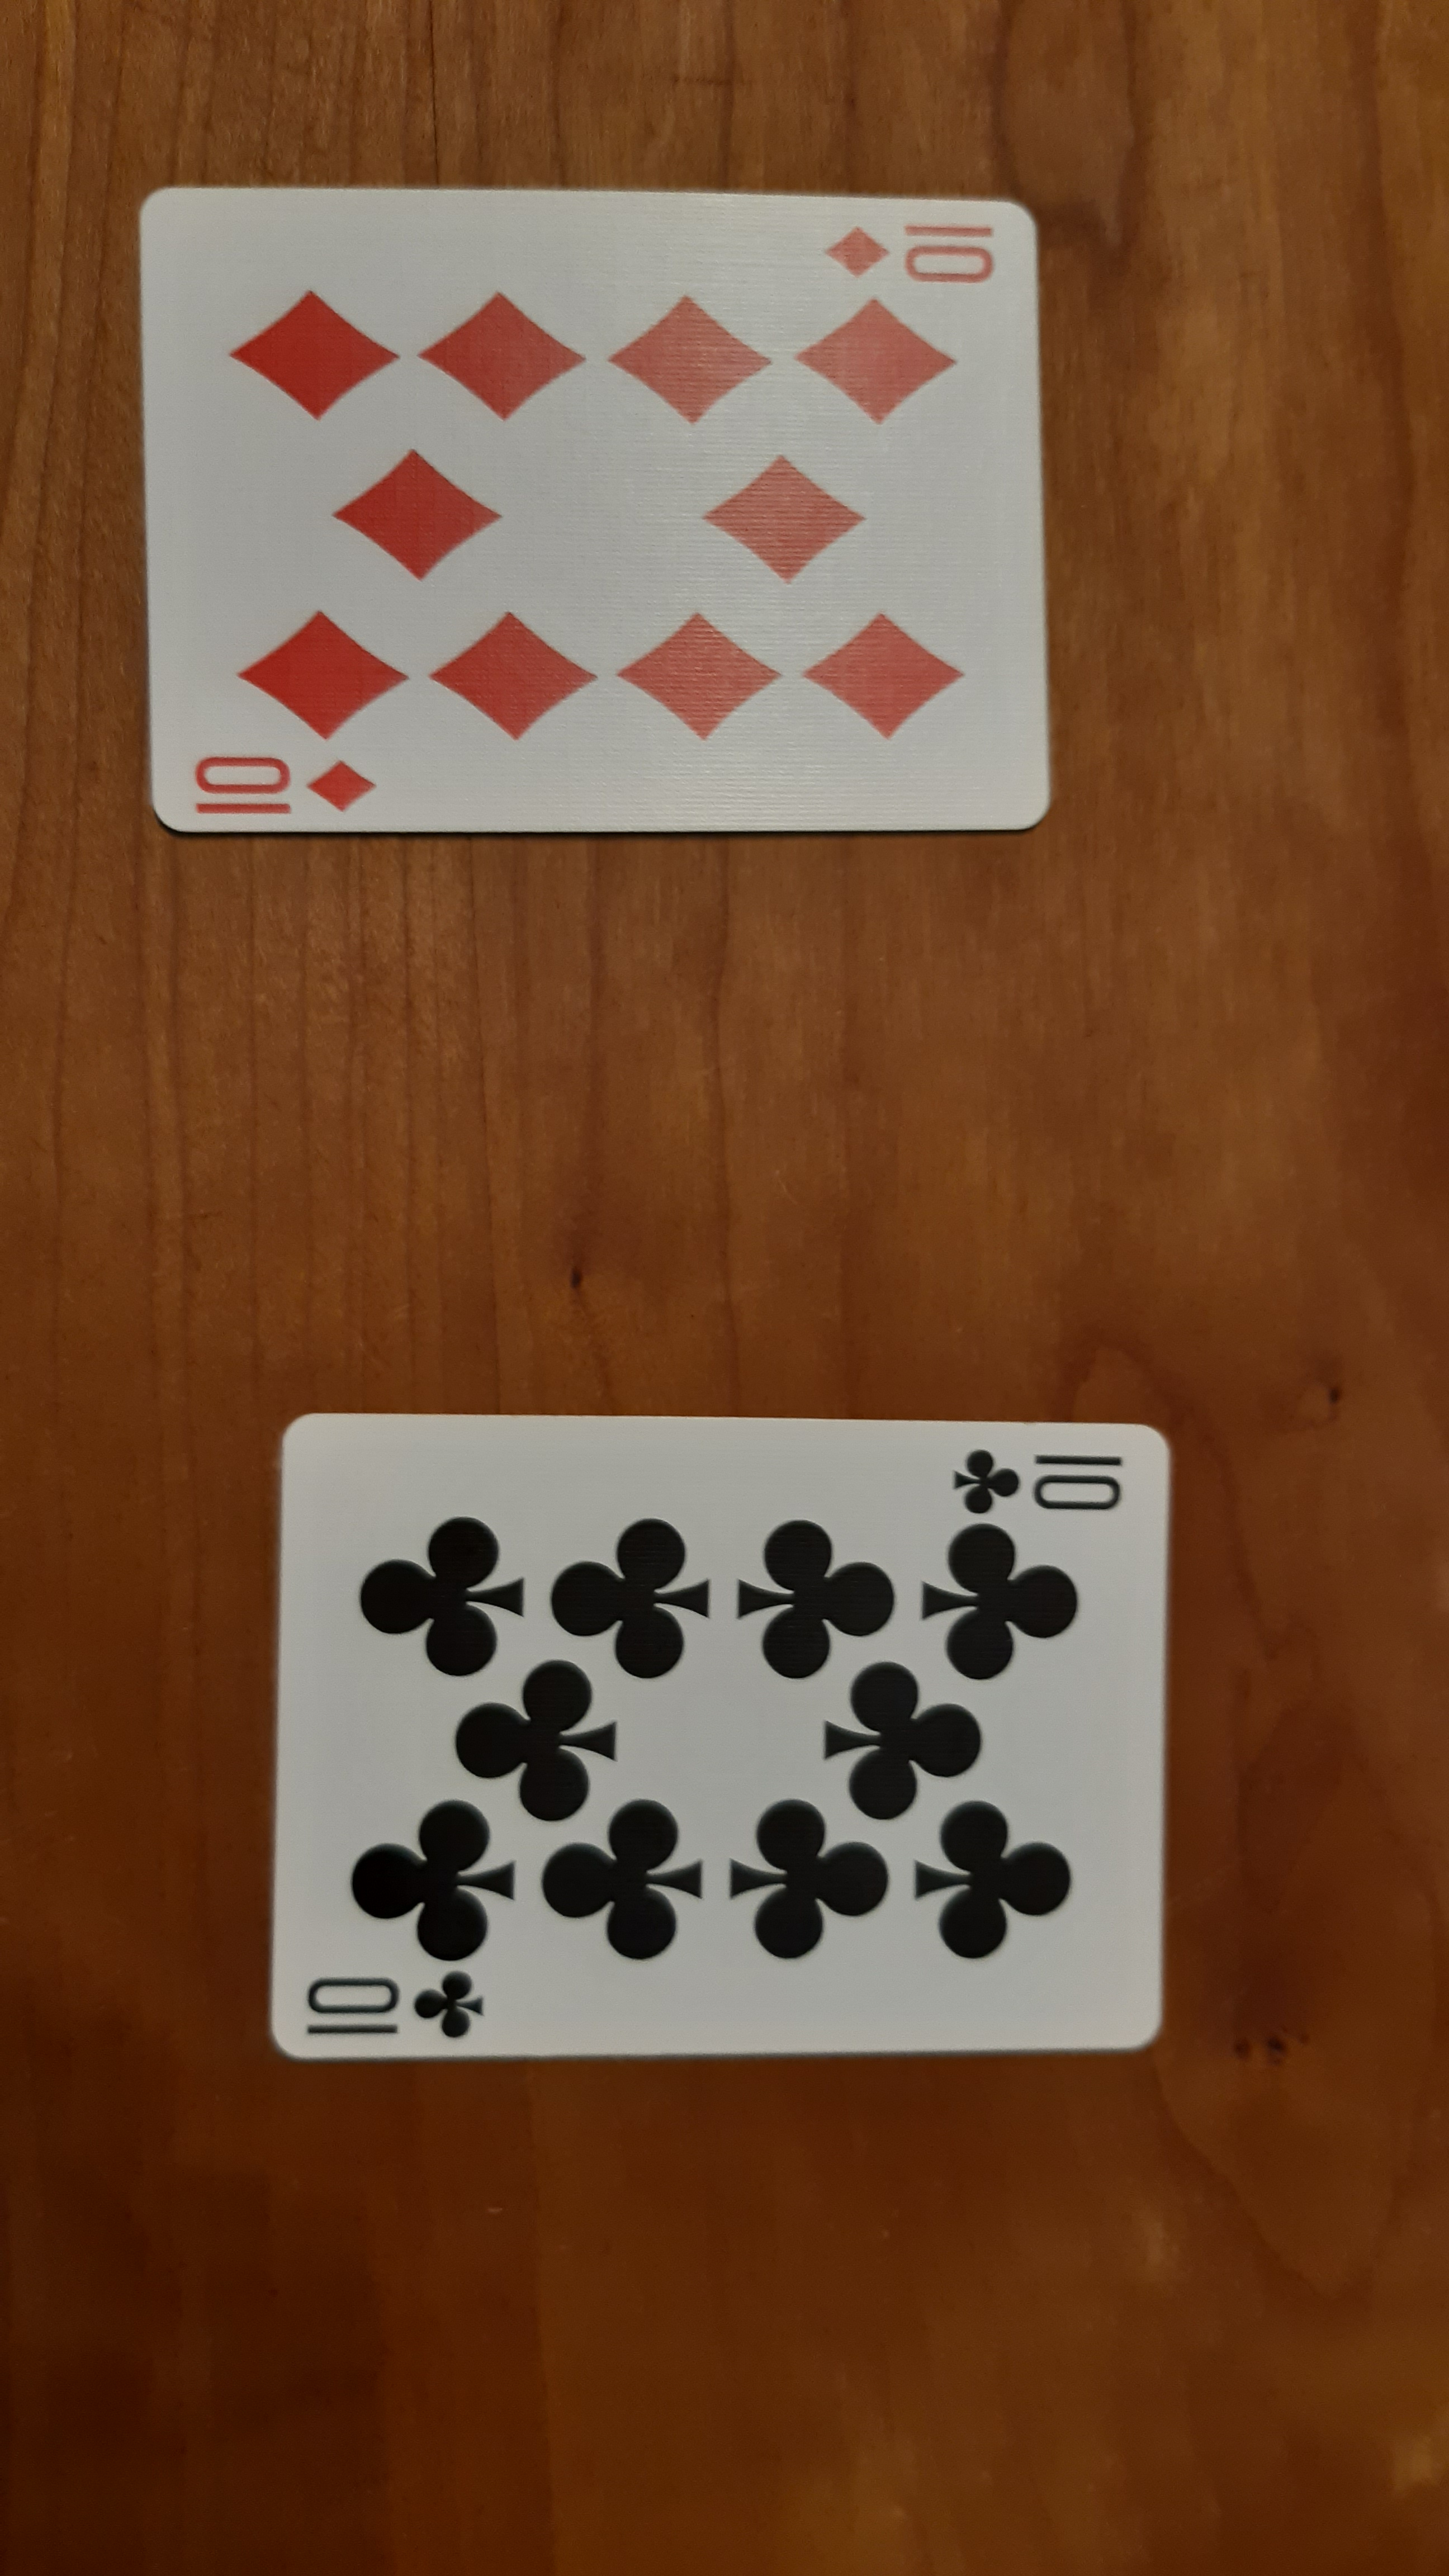Black_Club_10: (292, 1944, 508, 2063), (945, 1431, 1138, 1530)
Red_Diamond_10: (163, 740, 391, 823), (810, 203, 1007, 287)
